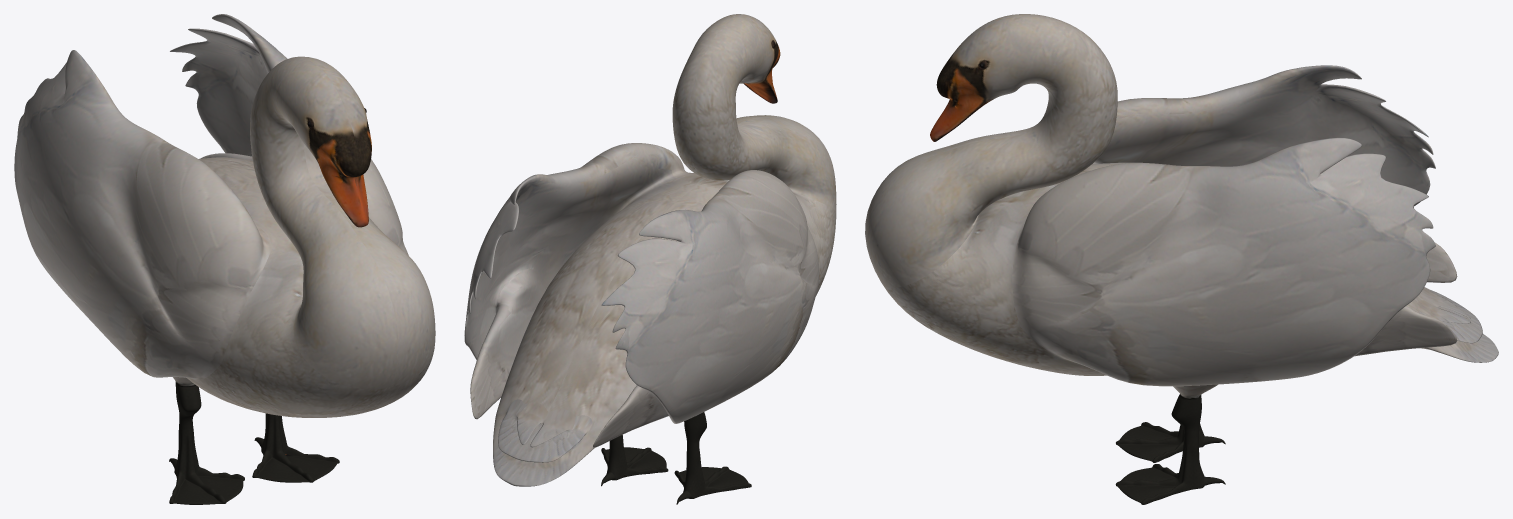
File: swan.fbx
The picture shows the model from 3 angles, left to right: view 1: azimuth 30°, elevation 25°; view 2: azimuth 150°, elevation 25°; view 3: azimuth 270°, elevation 25°; orthographic projection. The views are drawn at different scales.
Visible parts, largest first — view 1: 12255_Mute_Swan_v1_l3; view 2: 12255_Mute_Swan_v1_l3; view 3: 12255_Mute_Swan_v1_l3.
Part boxes in pixels (x1,y1,x2,y2): 12255_Mute_Swan_v1_l3: (14,14,435,504); 12255_Mute_Swan_v1_l3: (464,14,836,504); 12255_Mute_Swan_v1_l3: (865,14,1498,504).
Size of the model in its own units: 36.51 by 60.65 by 77.7.
1 material, 1 textured.
